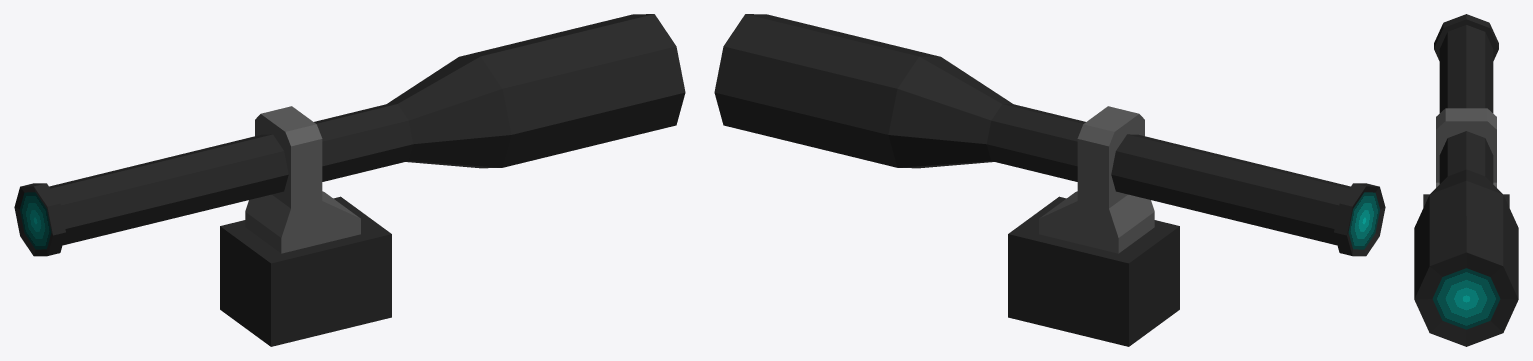
The model's file is Accessories_Sniper_Scope_B.FBX.
3 renders of one model, left to right at view 1: azimuth 30°, elevation 25°; view 2: azimuth 150°, elevation 25°; view 3: azimuth 270°, elevation 25°, orthographic. The views are drawn at different scales.
Visible parts, largest first — view 1: Accessories_Sniper_Scope_B; view 2: Accessories_Sniper_Scope_B; view 3: Accessories_Sniper_Scope_B.
Boxes of the visible parts, x1,y1,x2,y2 form: Accessories_Sniper_Scope_B: (14,14,685,346); Accessories_Sniper_Scope_B: (714,14,1385,346); Accessories_Sniper_Scope_B: (1414,14,1518,346).
Size of the model in its own units: 118 by 39.08 by 20.38.
